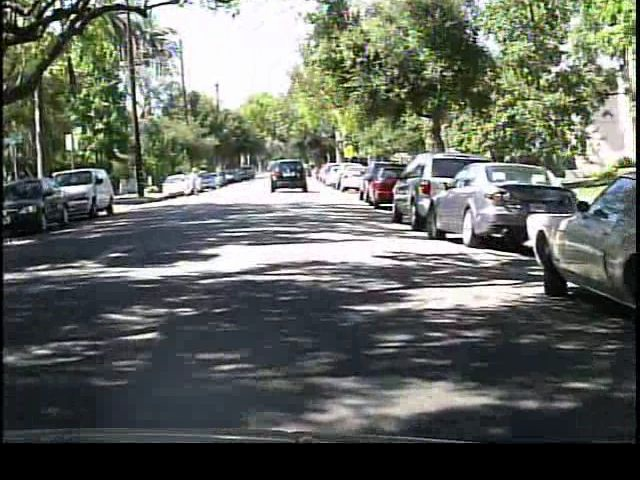person: (184, 163, 203, 201)
